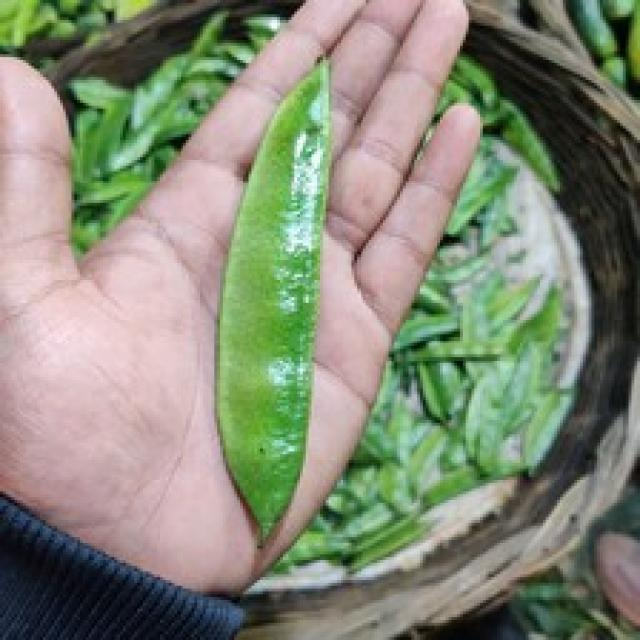Bean: (212, 54, 332, 549)
